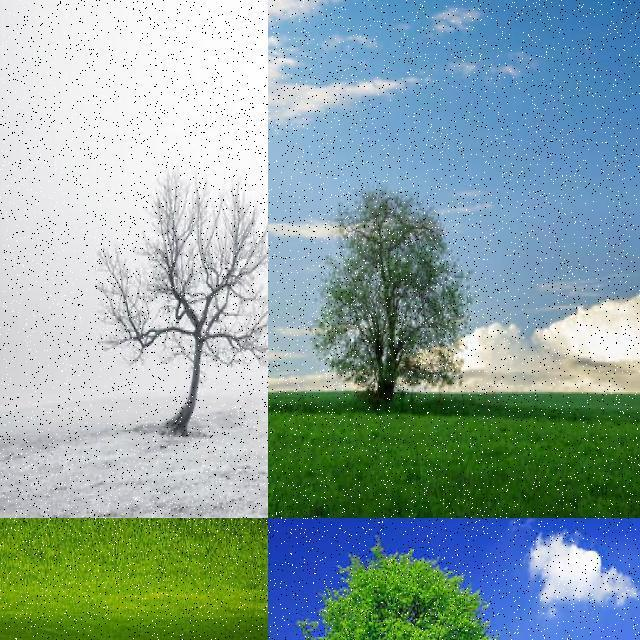tree: (92, 164, 268, 434), (318, 176, 474, 400), (271, 539, 528, 640)
